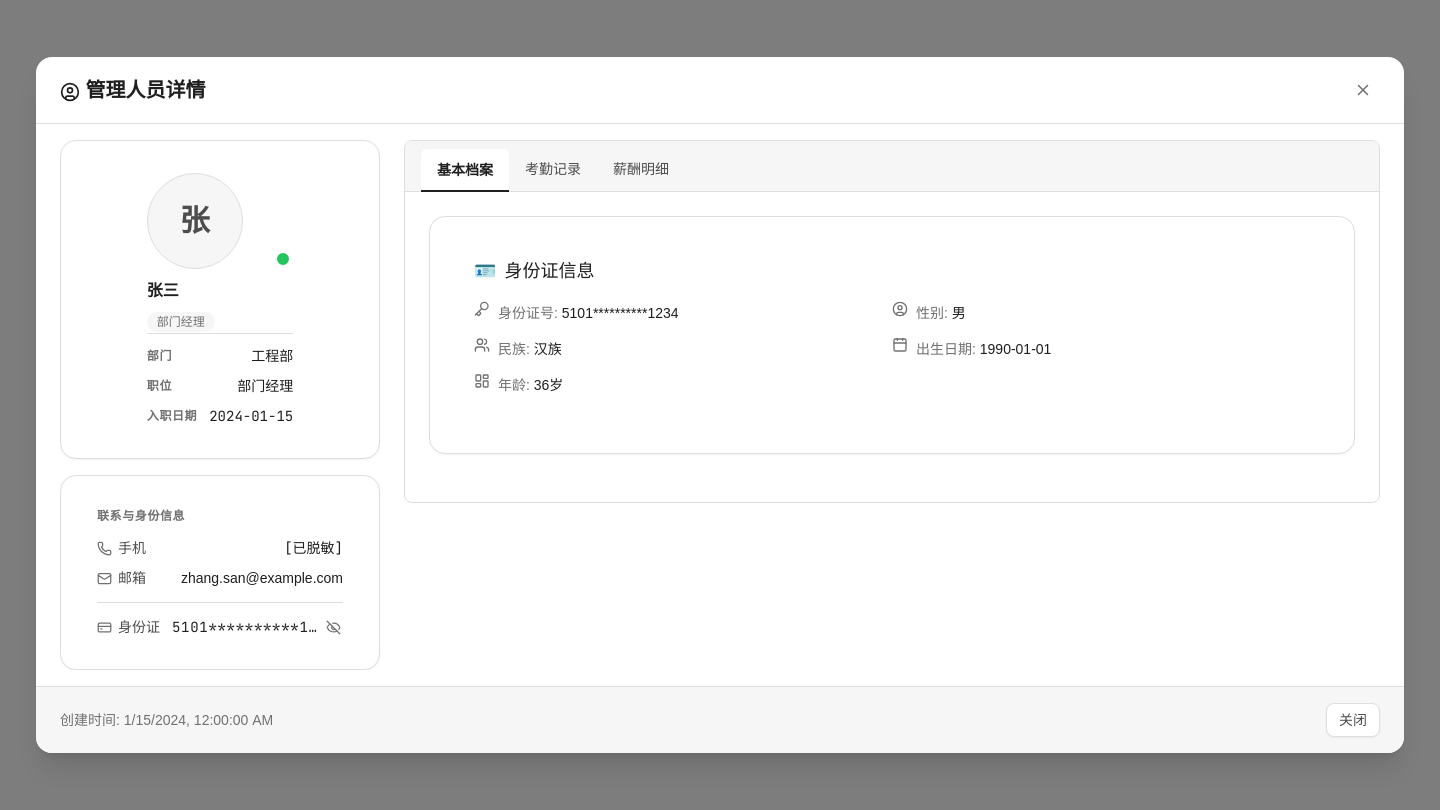
Test: MemberDetail (S23) › 考勤记录为空时显示空态
This screenshot has width=1440, height=810.
Click the button "考勤记录": (553, 170) [509,149,597,191]
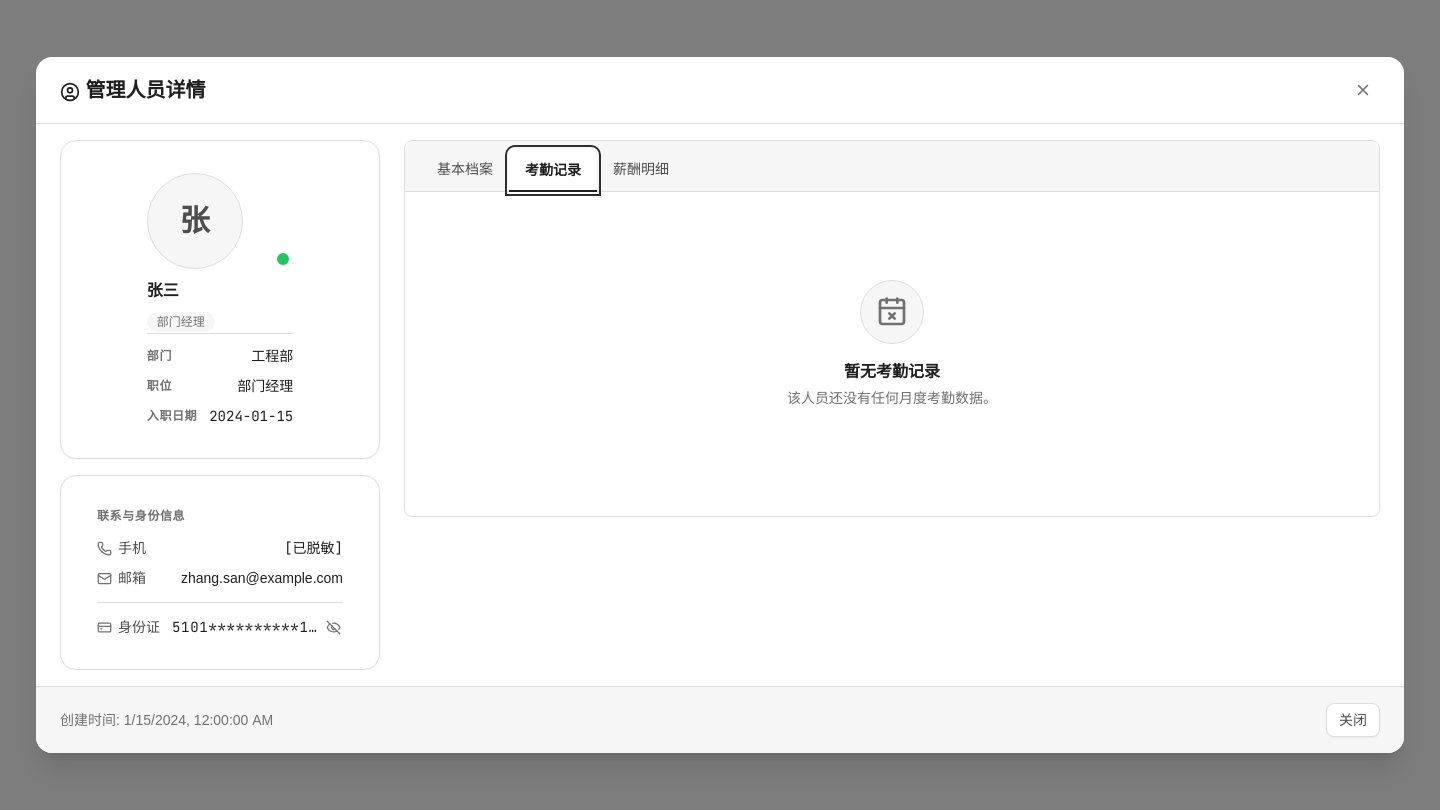
Result: the heading "暂无考勤记录" is shown at [844,360,940,384]
